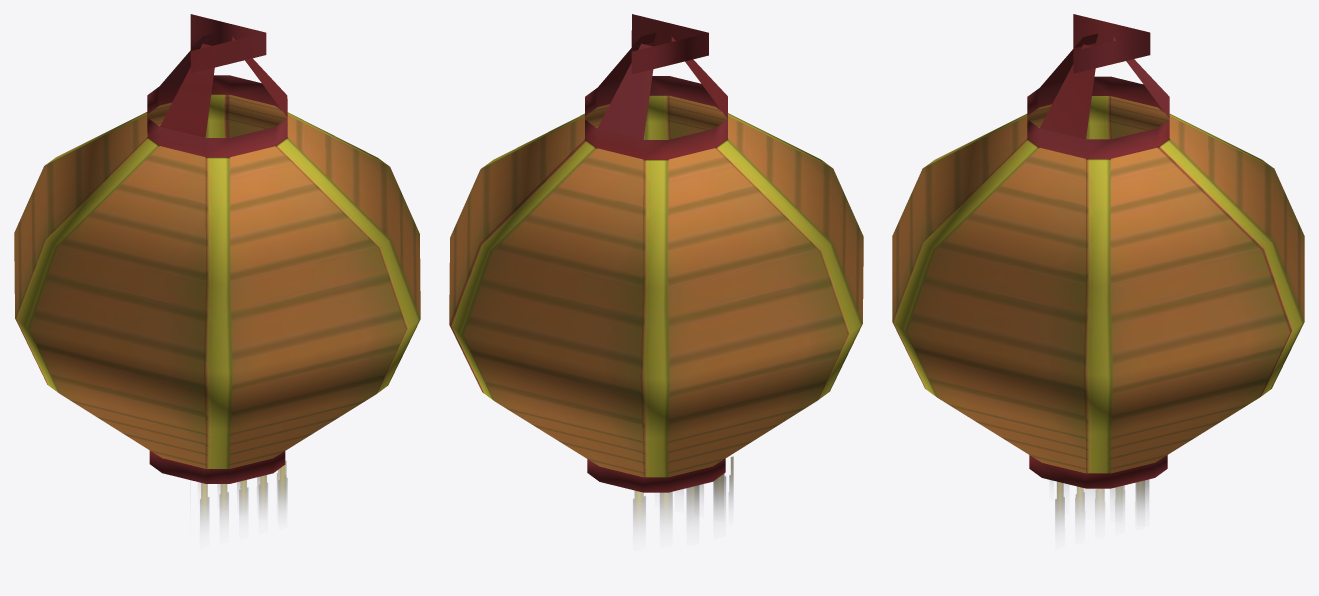
File: lamp03.glb
3 renders of one model, left to right at view 1: azimuth 30°, elevation 25°; view 2: azimuth 150°, elevation 25°; view 3: azimuth 270°, elevation 25°, orthographic.
Parts seen in each view (by area): view 1: Lamp03; view 2: Lamp03; view 3: Lamp03.
Boxes of the visible parts, left/top/right/bottom form: Lamp03: left=14, top=14, right=420, bottom=528; Lamp03: left=449, top=14, right=863, bottom=530; Lamp03: left=892, top=14, right=1304, bottom=528.
Bounding box in the file's own units: 1.4 × 1.78 × 1.27.
Materials: 2 (2 with a texture image).
